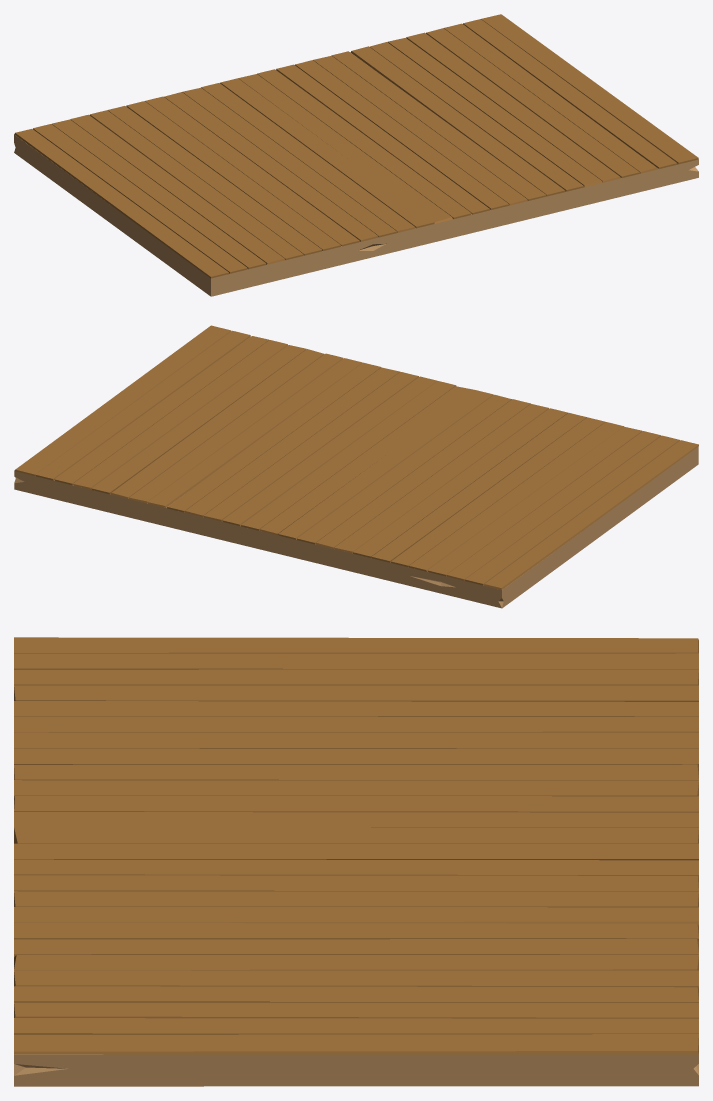
Rendered from Platform_5.fbx.
The picture shows the model from 3 angles, top to bottom: view 1: azimuth 30°, elevation 25°; view 2: azimuth 150°, elevation 25°; view 3: azimuth 270°, elevation 25°; orthographic projection. The views are drawn at different scales.
Parts seen in each view (by area): view 1: Platform_5; view 2: Platform_5; view 3: Platform_5.
Part boxes in pixels (bbox=[...]): Platform_5: bbox=[14, 14, 698, 296]; Platform_5: bbox=[14, 325, 698, 608]; Platform_5: bbox=[14, 637, 698, 1086].
Size of the model in its own units: 1083 by 756 by 42.26.
